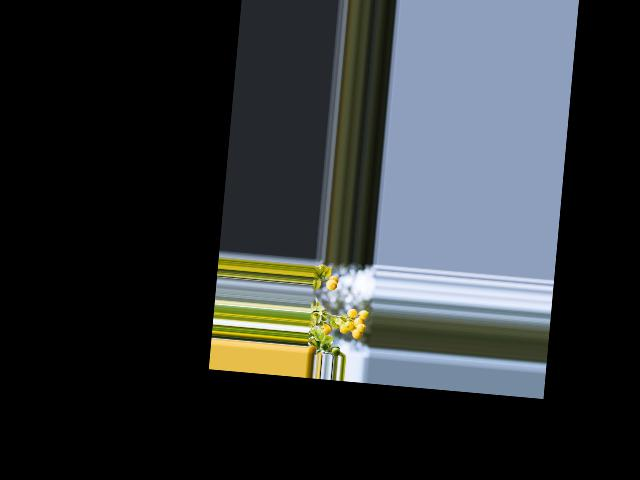lemon: (351, 327, 365, 339)
